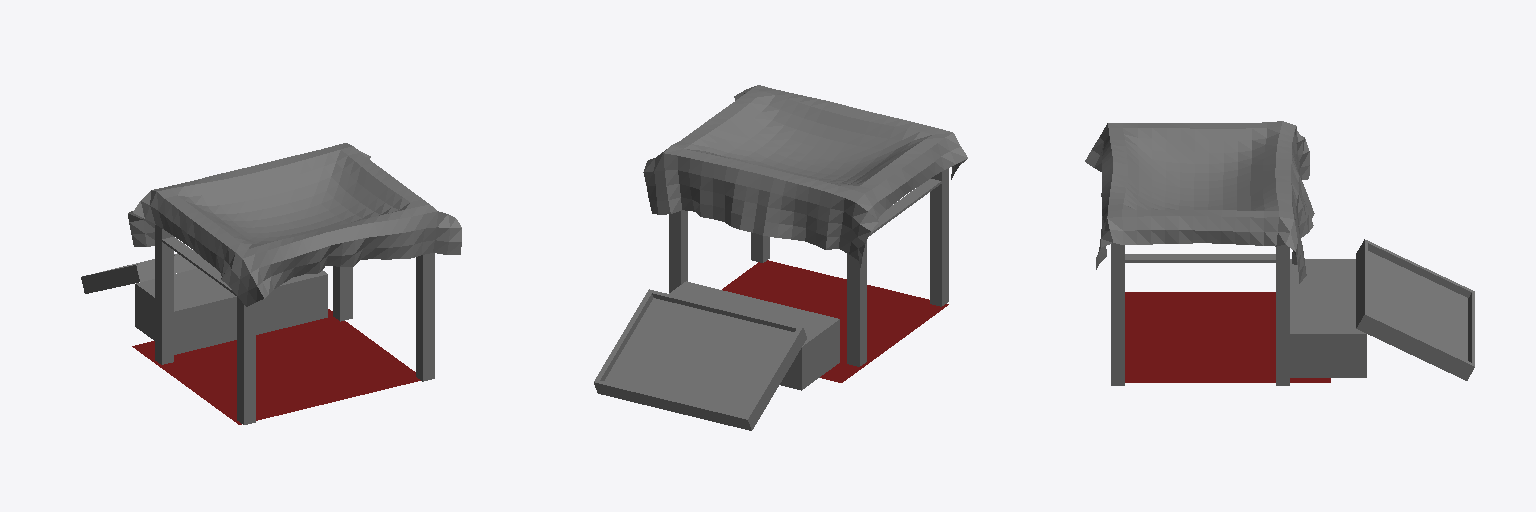
File: MerchantStall_02.obj
3 views of the same model, side by side, from view 1: azimuth 30°, elevation 25°; view 2: azimuth 150°, elevation 25°; view 3: azimuth 270°, elevation 25° (orthographic).
Parts seen in each view (by area): view 1: MerchantStall_01; view 2: MerchantStall_01; view 3: MerchantStall_01.
Part boxes in pixels (x1,y1,x2,y2): MerchantStall_01: (81, 143, 461, 424); MerchantStall_01: (594, 85, 967, 430); MerchantStall_01: (1085, 121, 1474, 385).
Size of the model in its own units: 2.29 by 1.63 by 3.29.